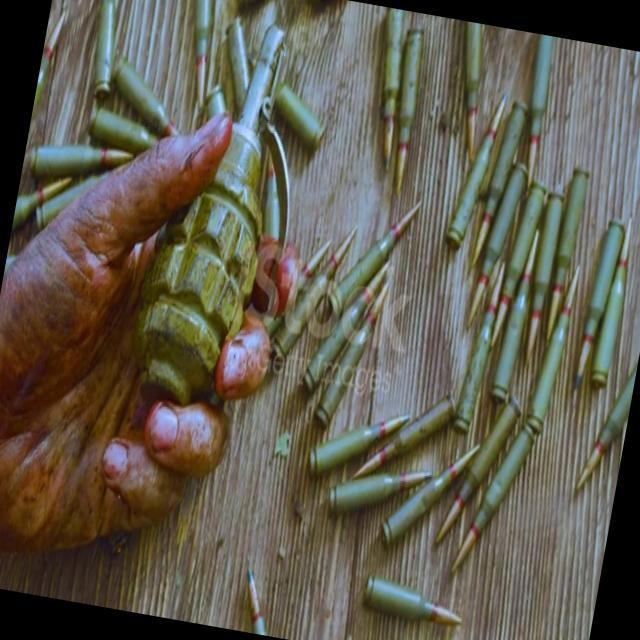grenade: (123, 9, 305, 419)
